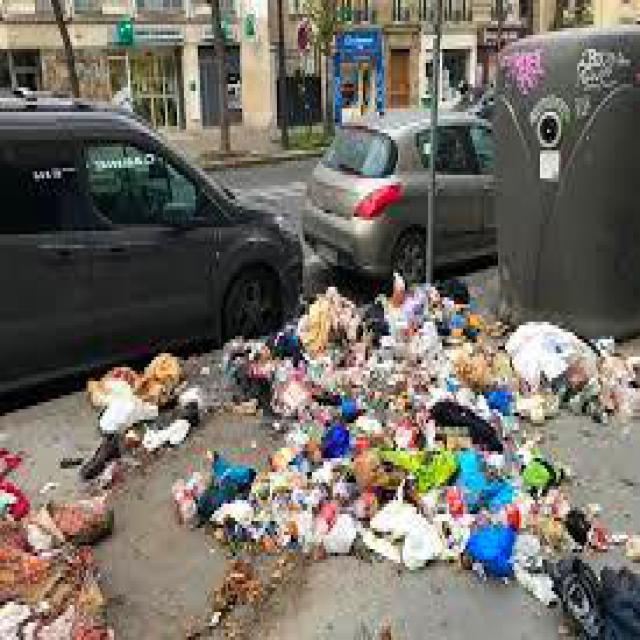garbage: (240, 276, 638, 636), (0, 416, 131, 637), (91, 339, 230, 500)
